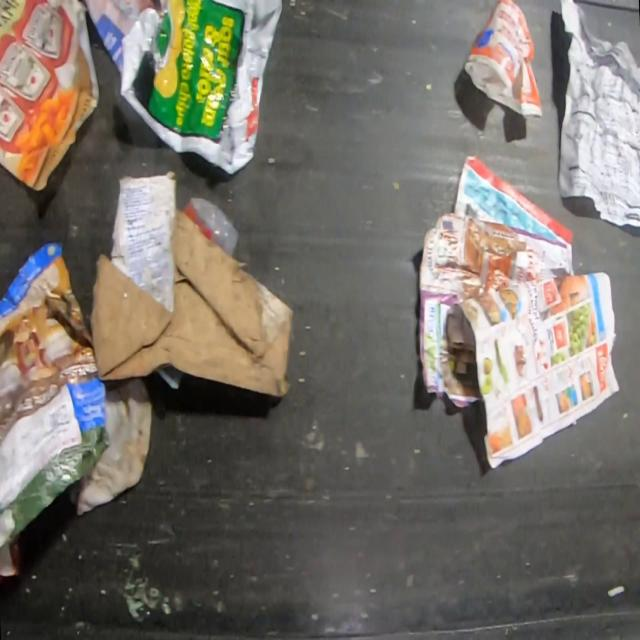cardboard: (92, 175, 293, 396)
rigid_plastic: (461, 0, 544, 118), (184, 196, 243, 256), (157, 364, 180, 390)
soft_plastic: (120, 0, 283, 177)
